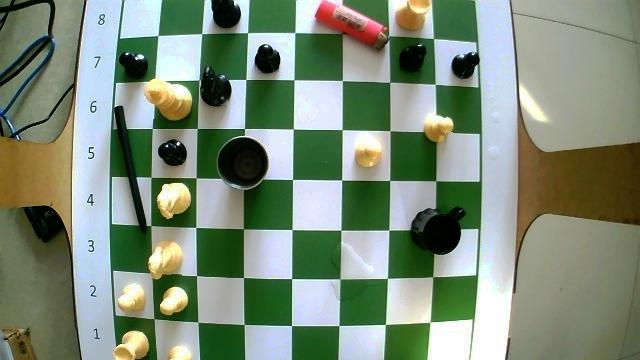piece: (144, 79, 191, 119), (148, 240, 182, 279), (156, 183, 189, 218), (200, 66, 228, 105), (396, 0, 430, 29), (114, 332, 148, 359), (423, 115, 453, 142), (116, 283, 144, 311), (211, 0, 239, 27), (158, 139, 187, 165), (119, 52, 148, 78), (355, 140, 381, 167), (160, 287, 186, 314), (451, 52, 478, 78), (400, 45, 426, 71), (255, 45, 279, 72), (170, 348, 190, 359)
